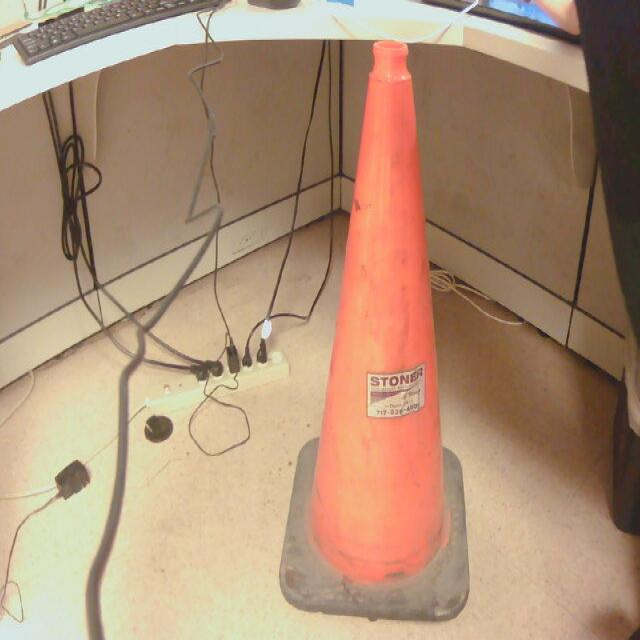traffic cone: (280, 42, 472, 626)
